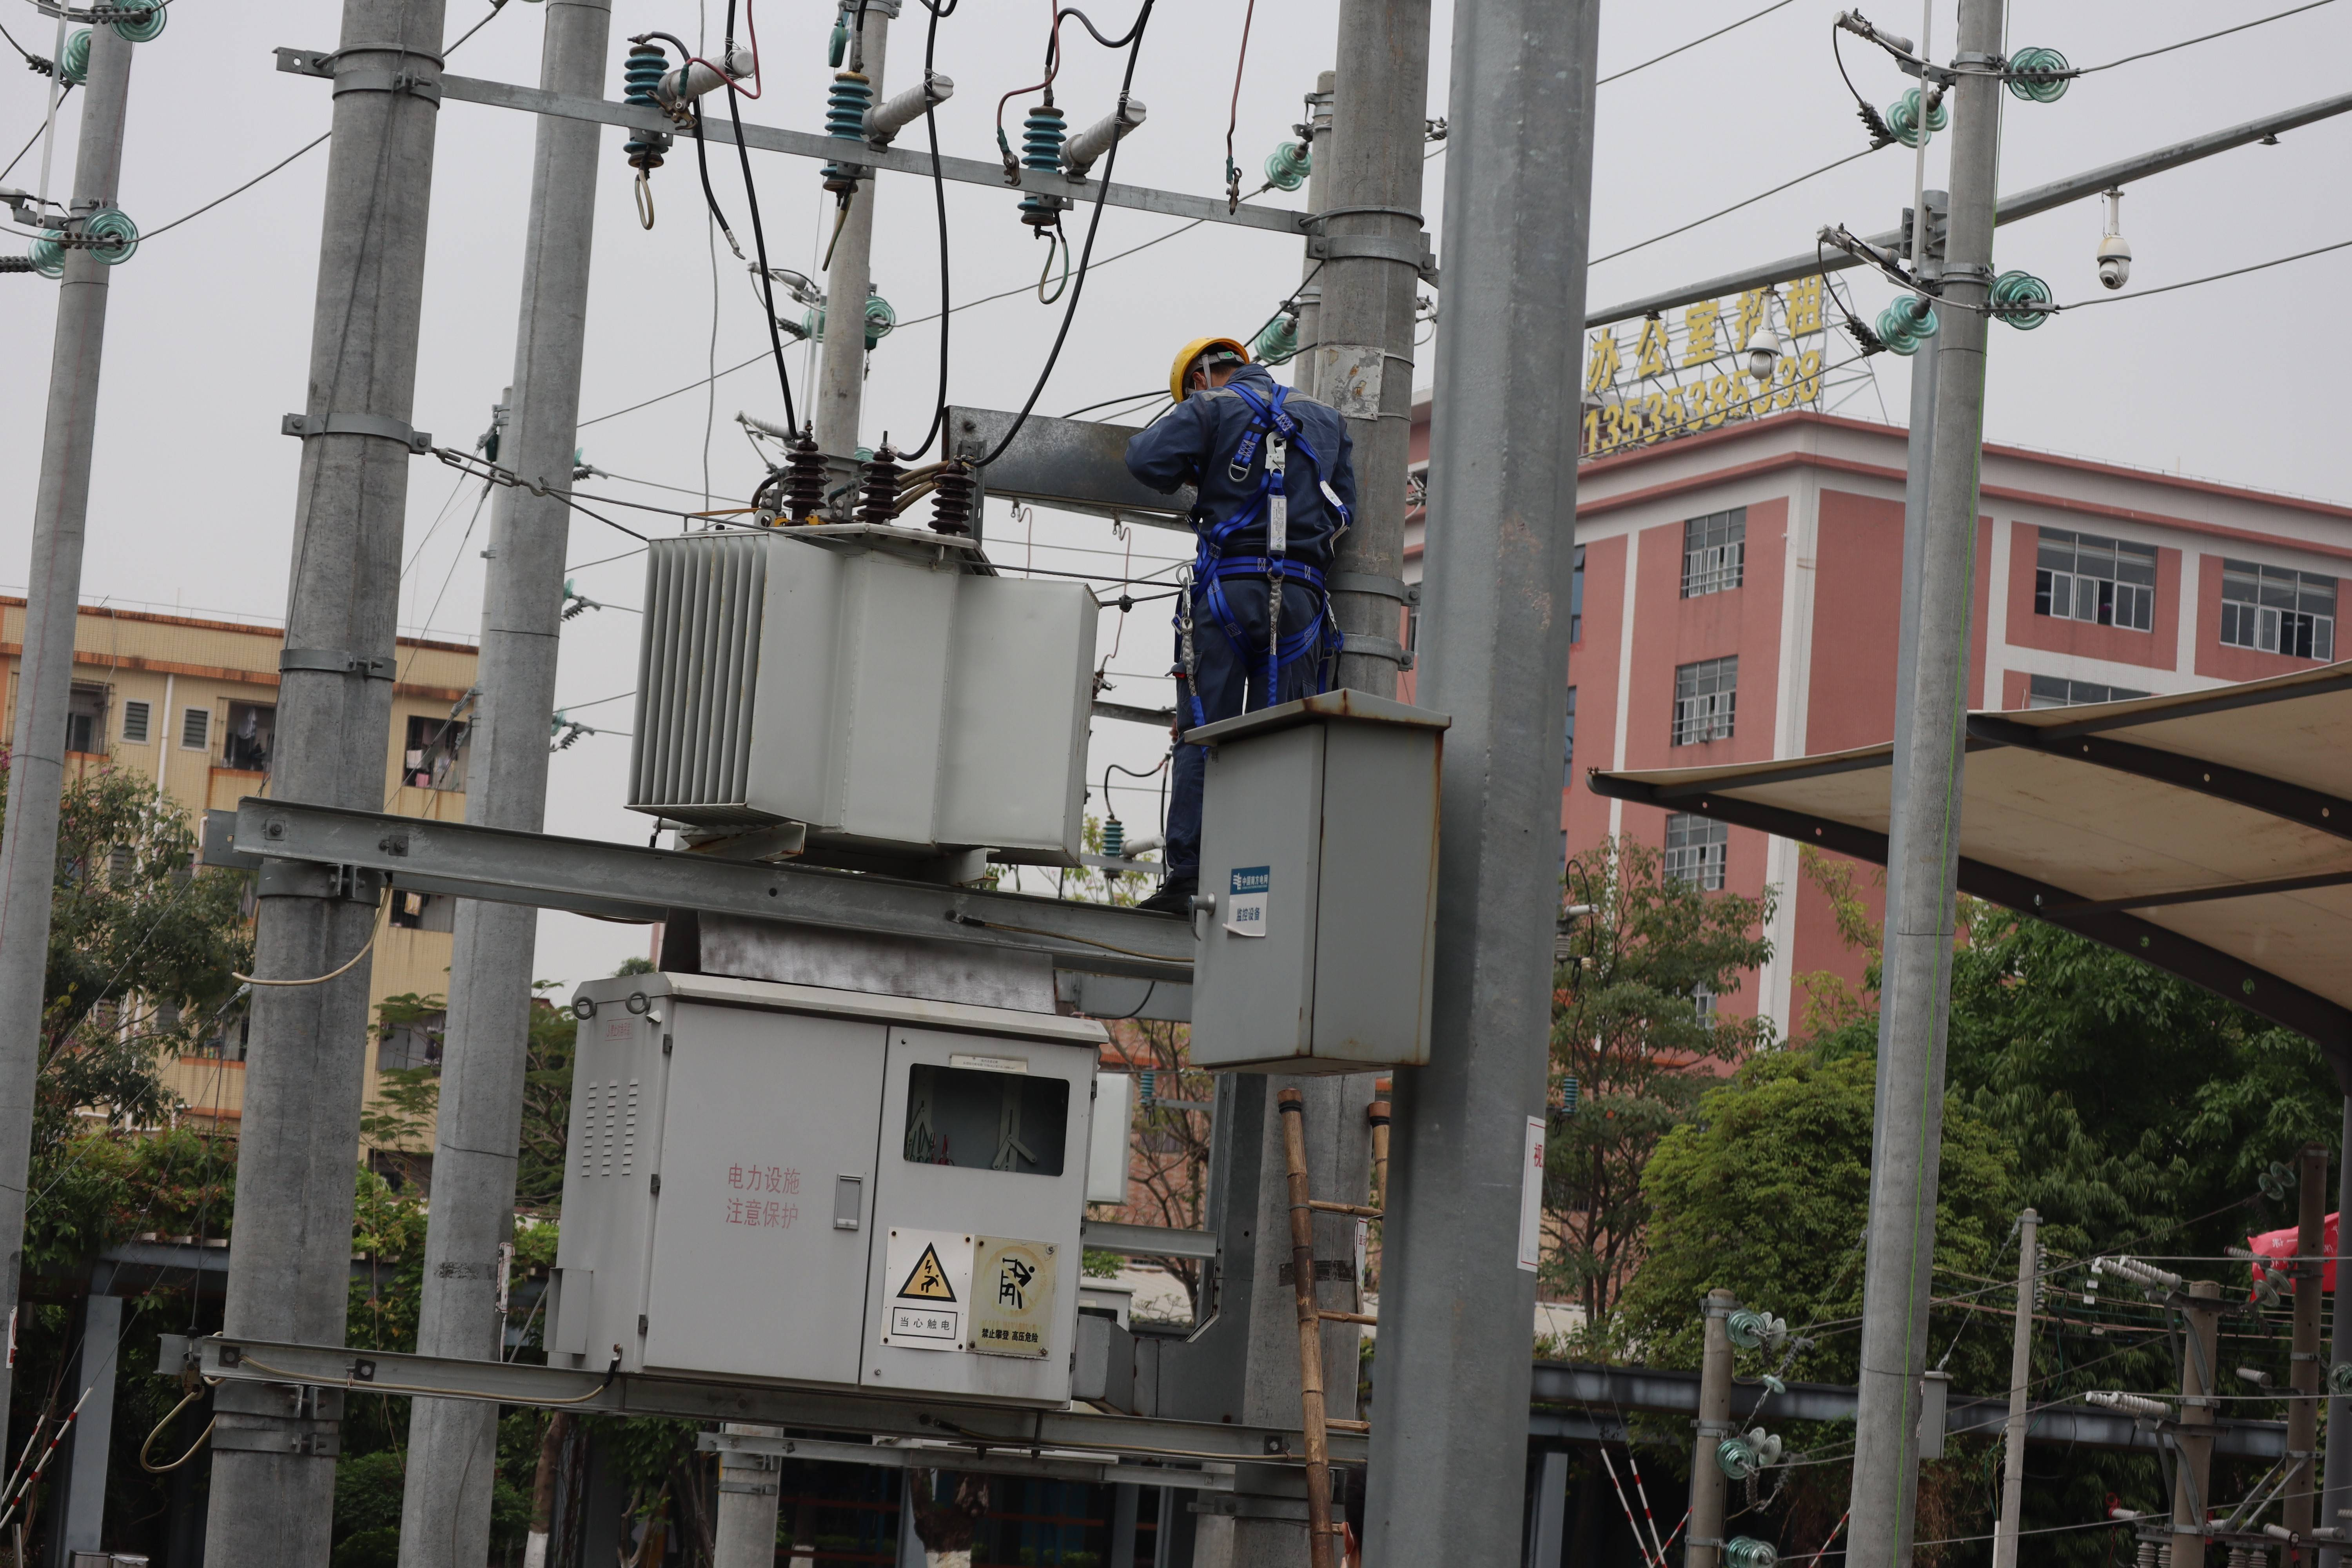downsuit: (1165, 581, 1319, 698)
upsuit: (1150, 382, 1323, 563)
